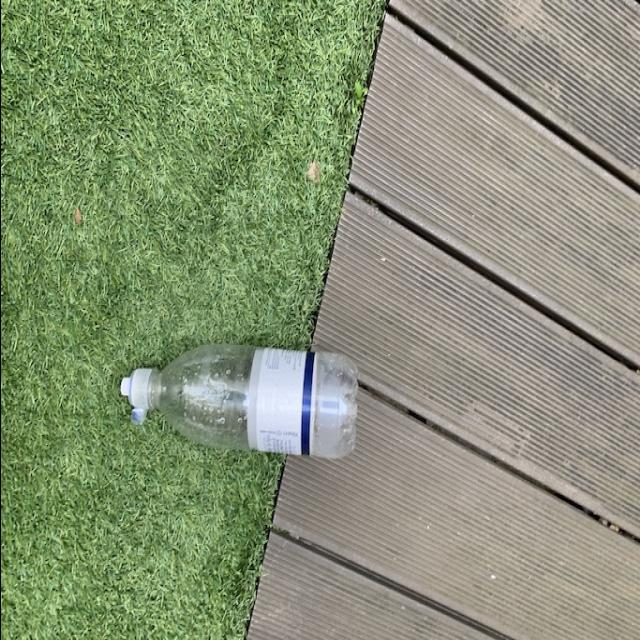PET: (109, 345, 360, 464)
